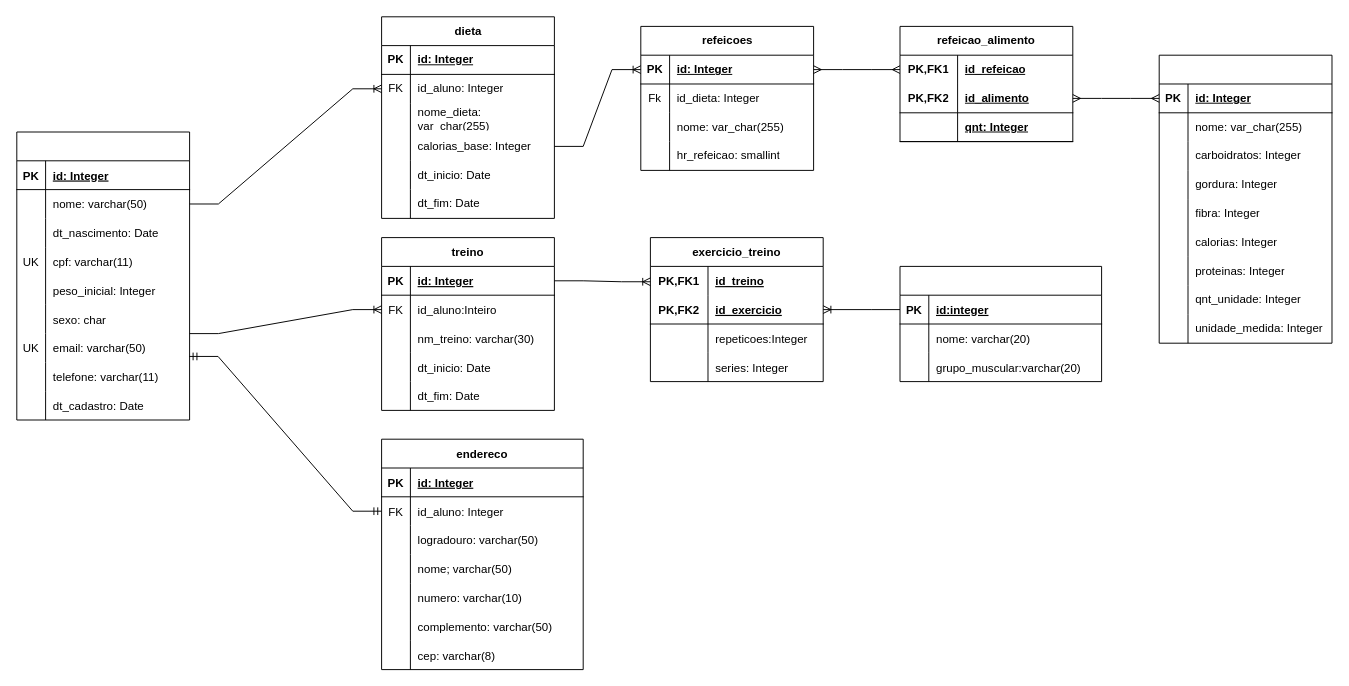
This 1349x686 diagram has some shape labels left out. Here are the shapes that lost their labels. From the top down, the box of each, then its label:
(1158, 54, 1332, 343): alimentos
(16, 131, 190, 420): aluno
(899, 265, 1102, 382): exercicios
